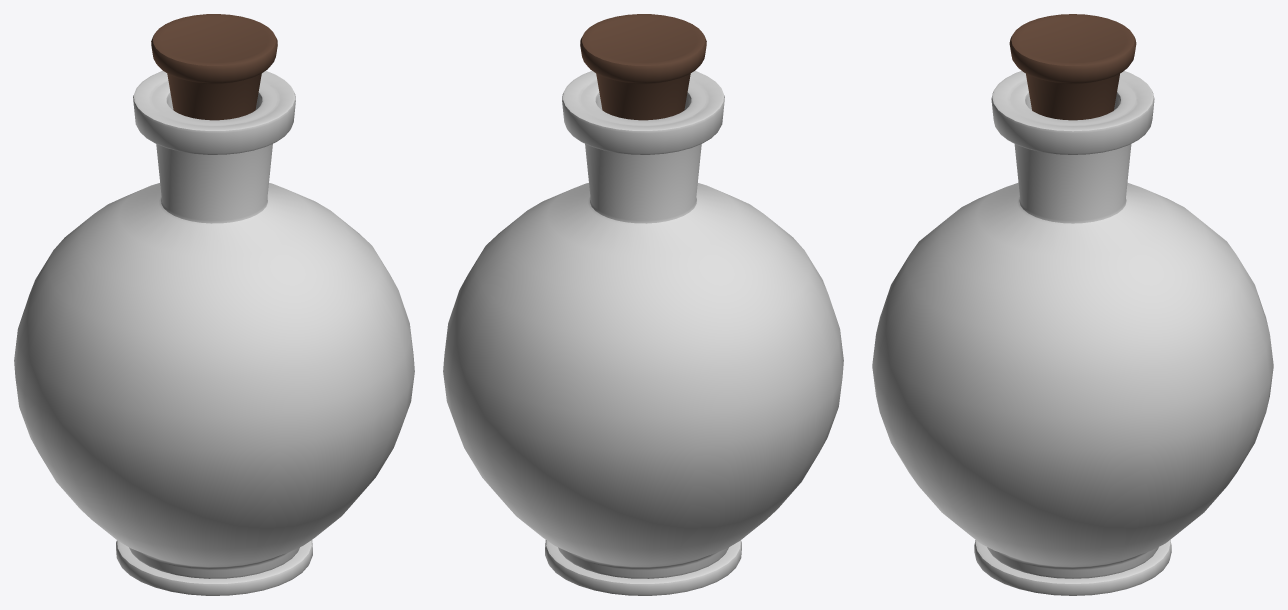
The model's file is Potion 1.fbx.
The picture shows the model from 3 angles, left to right: view 1: azimuth 30°, elevation 25°; view 2: azimuth 150°, elevation 25°; view 3: azimuth 270°, elevation 25°; orthographic projection.
Parts seen in each view (by area): view 1: Bottle, Bottle.001; view 2: Bottle, Bottle.001; view 3: Bottle, Bottle.001.
Part boxes in pixels (left/top/right/bottom): Bottle: left=14, top=71, right=414, bottom=595; Bottle.001: left=151, top=14, right=277, bottom=120; Bottle: left=443, top=71, right=843, bottom=595; Bottle.001: left=580, top=14, right=706, bottom=120; Bottle: left=872, top=71, right=1273, bottom=595; Bottle.001: left=1009, top=14, right=1136, bottom=120.
Size of the model in its own units: 200 by 284 by 200.
